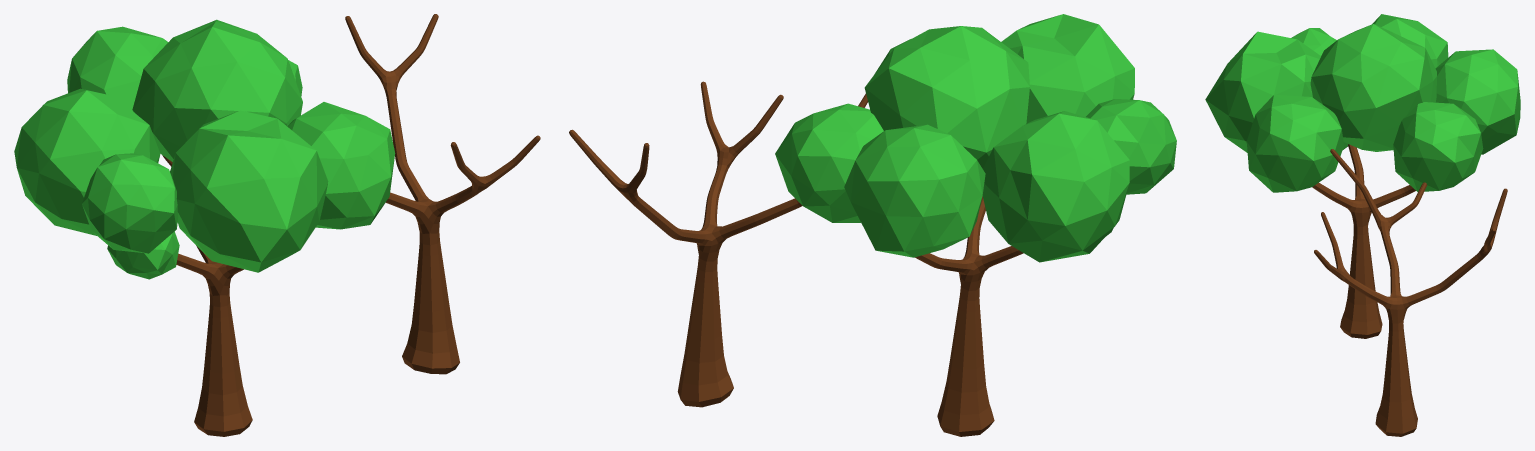
File: Tree_00.fbx
3 views of the same model, side by side, from view 1: azimuth 30°, elevation 25°; view 2: azimuth 150°, elevation 25°; view 3: azimuth 270°, elevation 25° (orthographic). The views are drawn at different scales.
Visible parts, largest first — view 1: Tree_00, Plane; view 2: Tree_00, Plane; view 3: Tree_00, Plane.
Part boxes in pixels (x1,y1,x2,y2): Tree_00: (14,19,395,279); Plane: (162,14,540,436); Tree_00: (775,14,1176,262); Plane: (569,81,1023,436); Tree_00: (1205,14,1520,192); Plane: (1312,144,1507,436).
Bounding box in the file's own units: 472 × 393 × 353.
